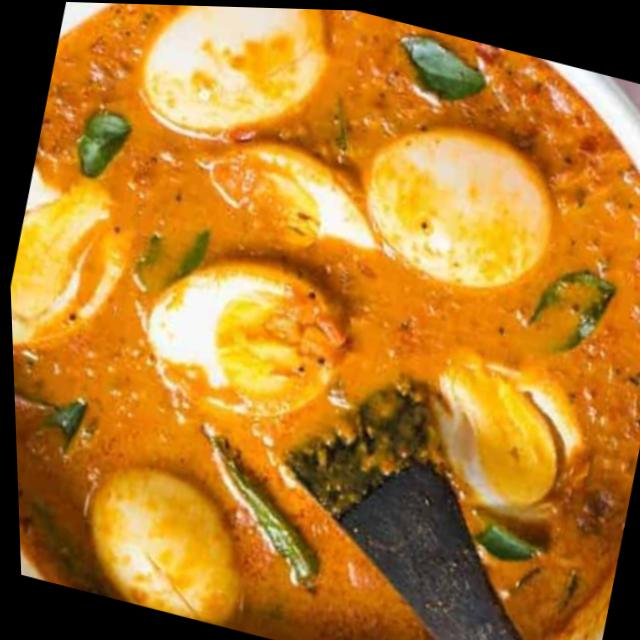EGG: (11, 2, 640, 640)
